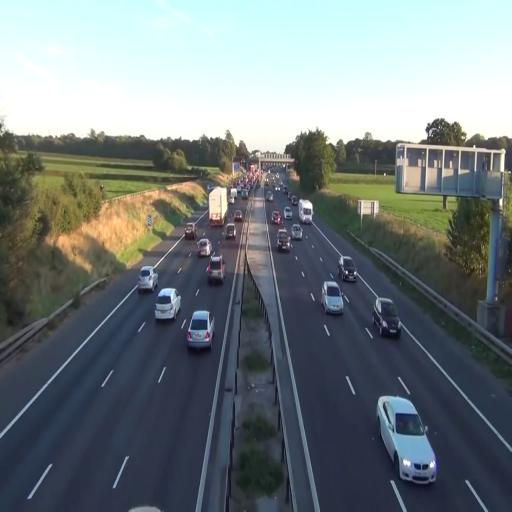vehicle: (377, 395, 437, 485), (186, 310, 214, 353), (372, 298, 400, 338), (154, 287, 182, 321), (322, 279, 344, 315), (208, 187, 226, 226), (206, 254, 225, 286), (338, 255, 358, 283), (138, 266, 158, 294), (276, 228, 292, 252), (298, 199, 313, 224), (196, 237, 212, 259), (299, 199, 313, 224), (291, 224, 303, 240)
